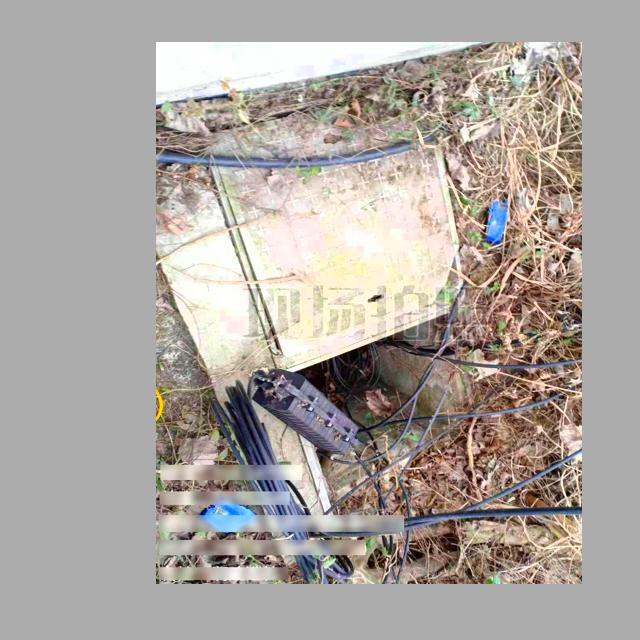lose: (206, 101, 484, 529)
